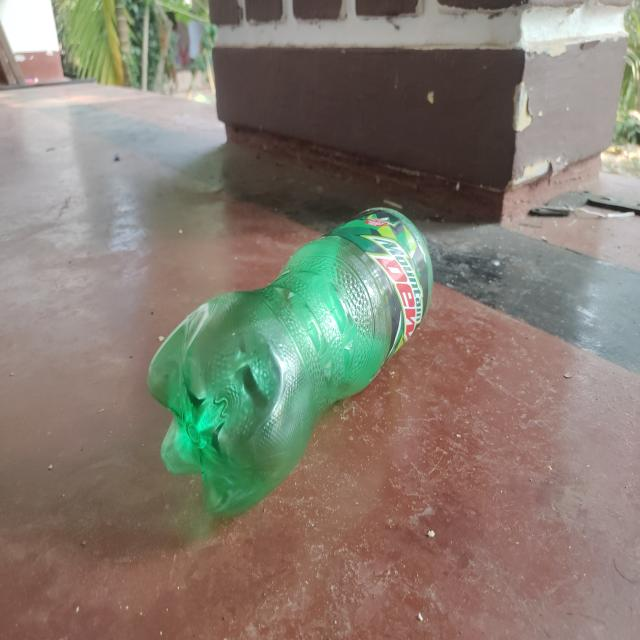plastic: (146, 202, 437, 522)
